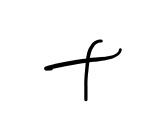plus: (44, 39, 122, 101)
